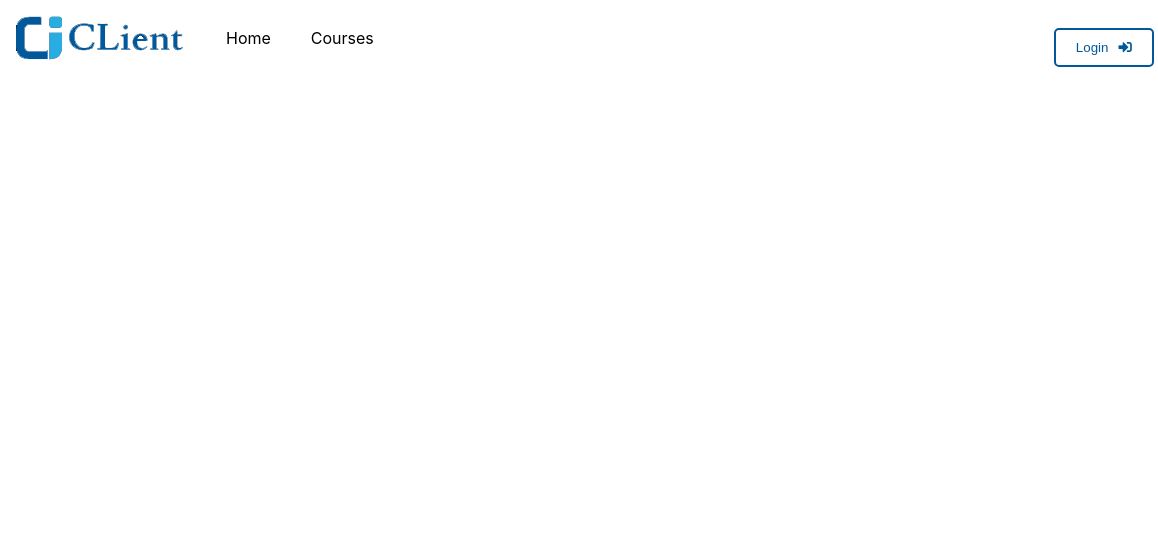
Test: Header Component › toggles login popup when login button is clicked
This screenshot has width=1158, height=555.
Click the button "Login". click: x=1104, y=48
box: [1054, 28, 1154, 67]
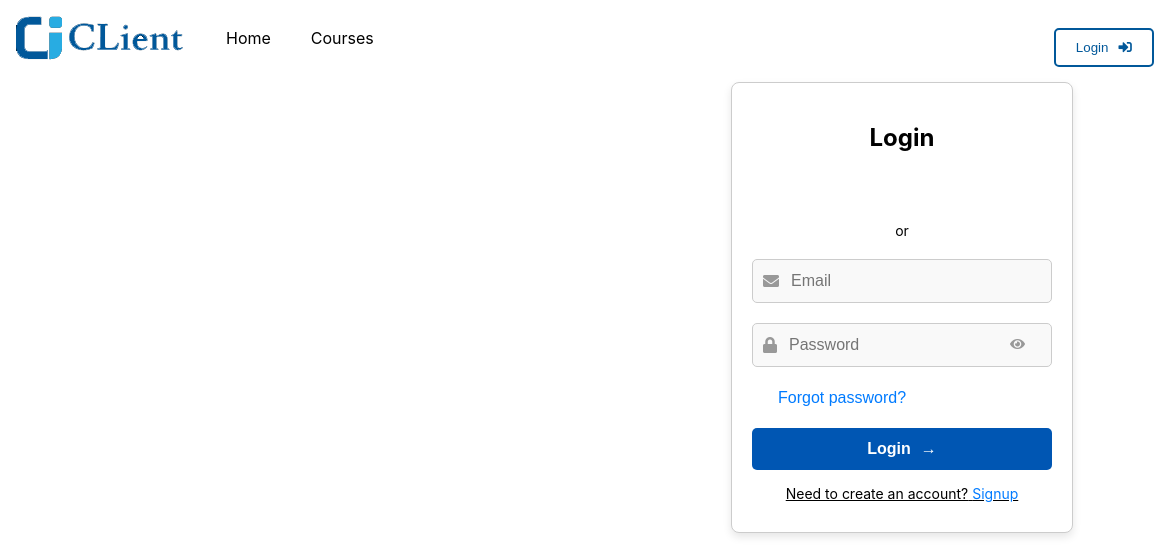
Now the heading "Login" is shown, box [870, 123, 934, 152]
